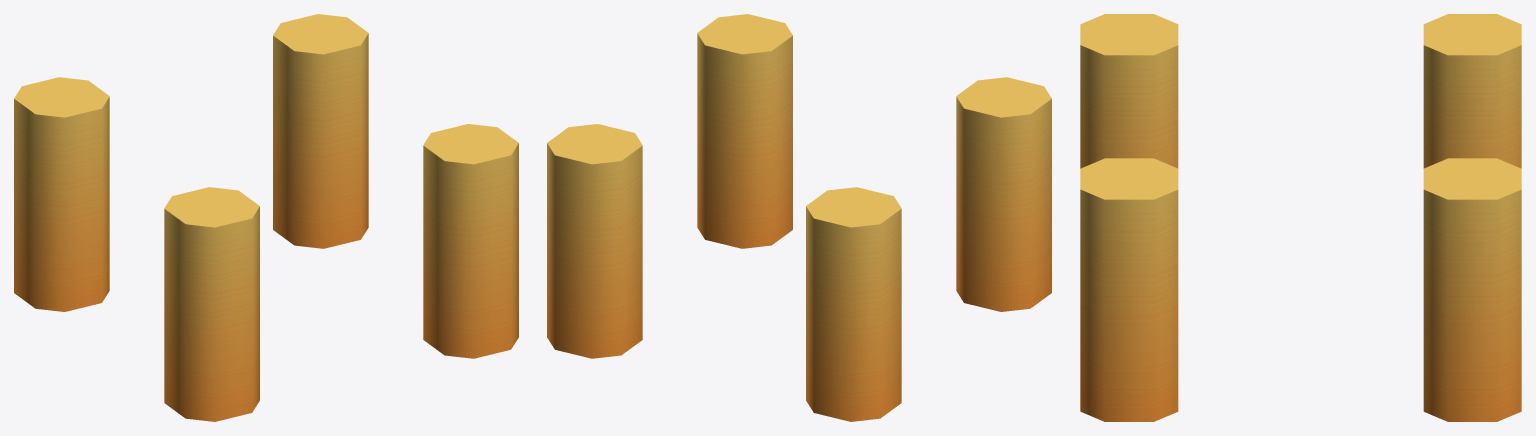
File: support-color-four-middle-col.glb
3 renders of one model, left to right at view 1: azimuth 30°, elevation 25°; view 2: azimuth 150°, elevation 25°; view 3: azimuth 270°, elevation 25°, orthographic. The views are drawn at different scales.
Visible parts, largest first — view 1: support-color-four-middle-col; view 2: support-color-four-middle-col; view 3: support-color-four-middle-col.
Part boxes in pixels (<box>): support-color-four-middle-col: <box>14,14,518,421</box>; support-color-four-middle-col: <box>547,14,1051,421</box>; support-color-four-middle-col: <box>1080,14,1521,421</box>.
Size of the model in its own units: 0.8969 by 0.5 by 0.9.
Materials: 1 (1 with a texture image).
